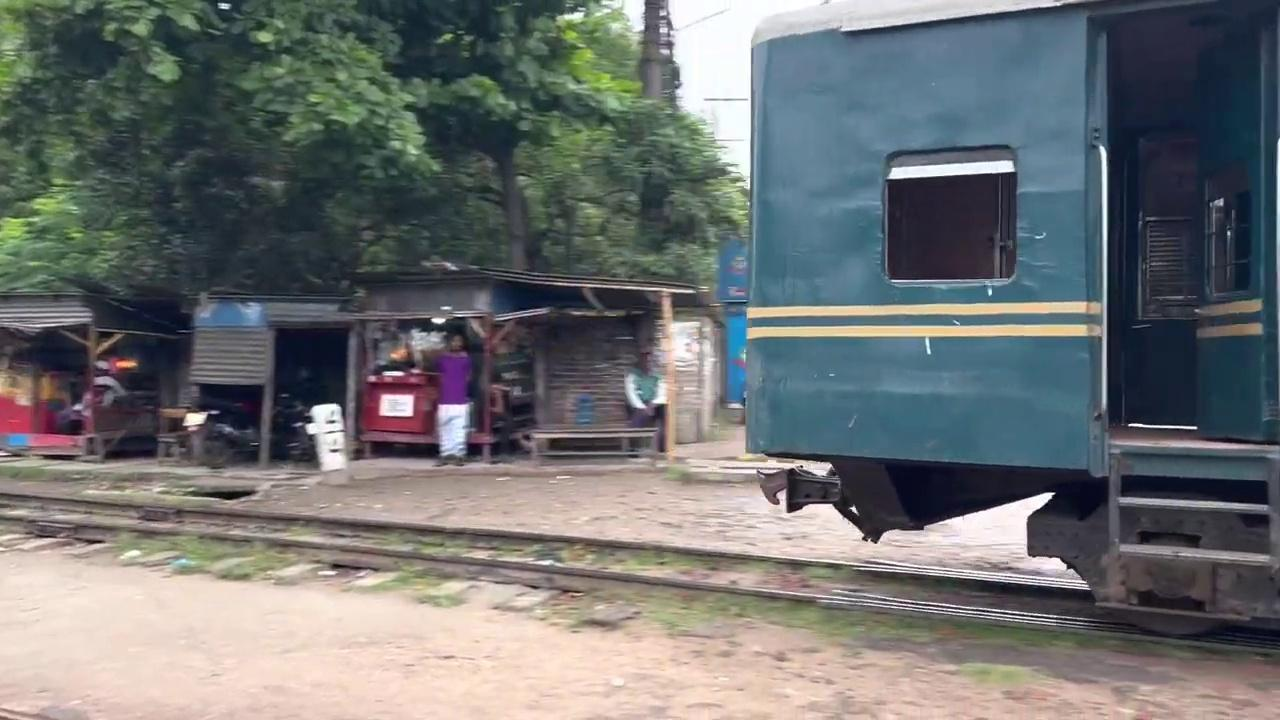Crosswalk: (359, 368, 439, 446)
Fence: (430, 333, 473, 467), (623, 348, 666, 453)
Motorcycle: (2, 454, 1276, 717)
Potted-plant: (743, 0, 1278, 638)
